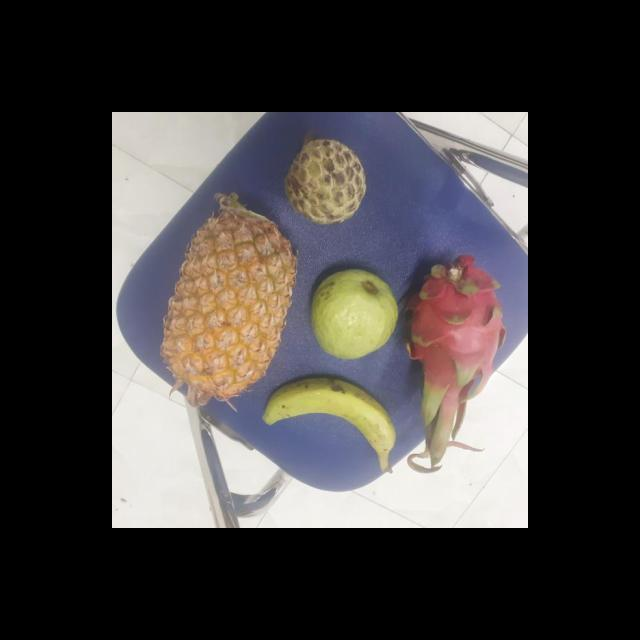Sakya fruit: (280, 139, 366, 227)
banana: (262, 379, 392, 464)
guava: (306, 270, 398, 362)
pineapple: (156, 202, 293, 404)
pitaya: (400, 257, 502, 403)
